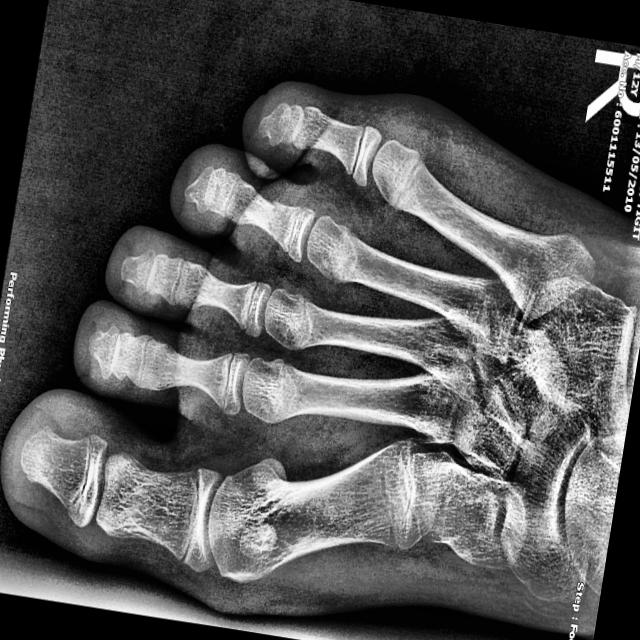Fracture: (359, 444, 411, 556)
